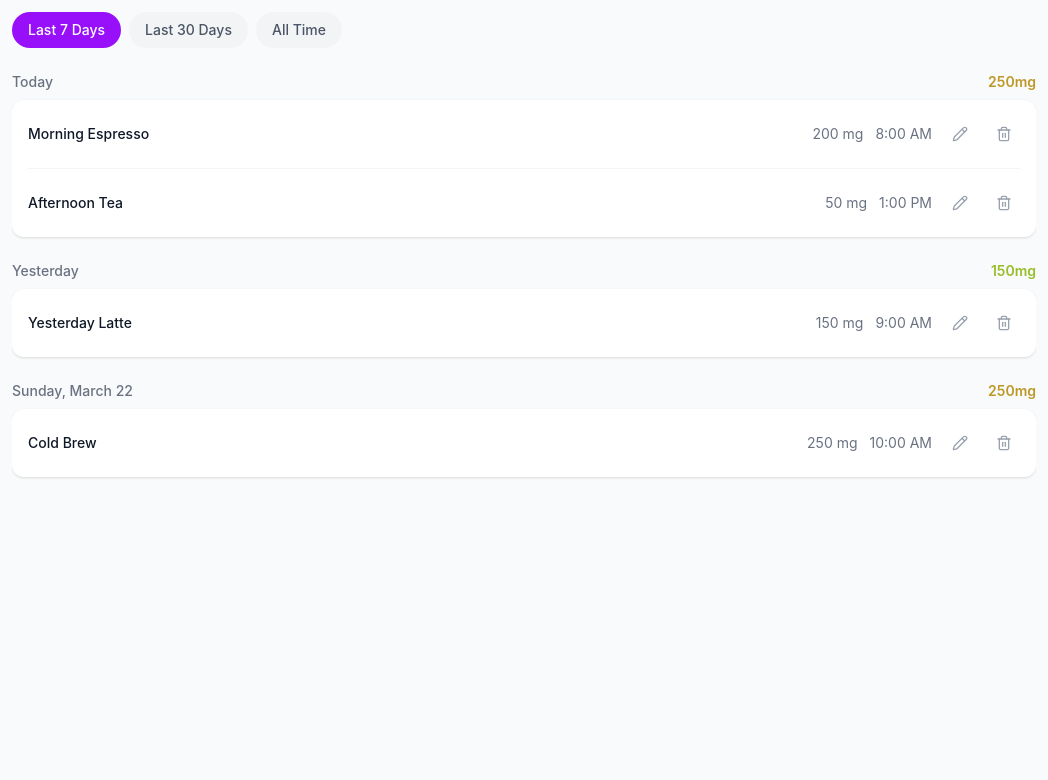
Test: HistoryDrinkList › All Time filter shows all drinks including old ones
The image size is (1048, 780).
Click the button "All Time".
click(299, 30)  # box [256,12,342,48]
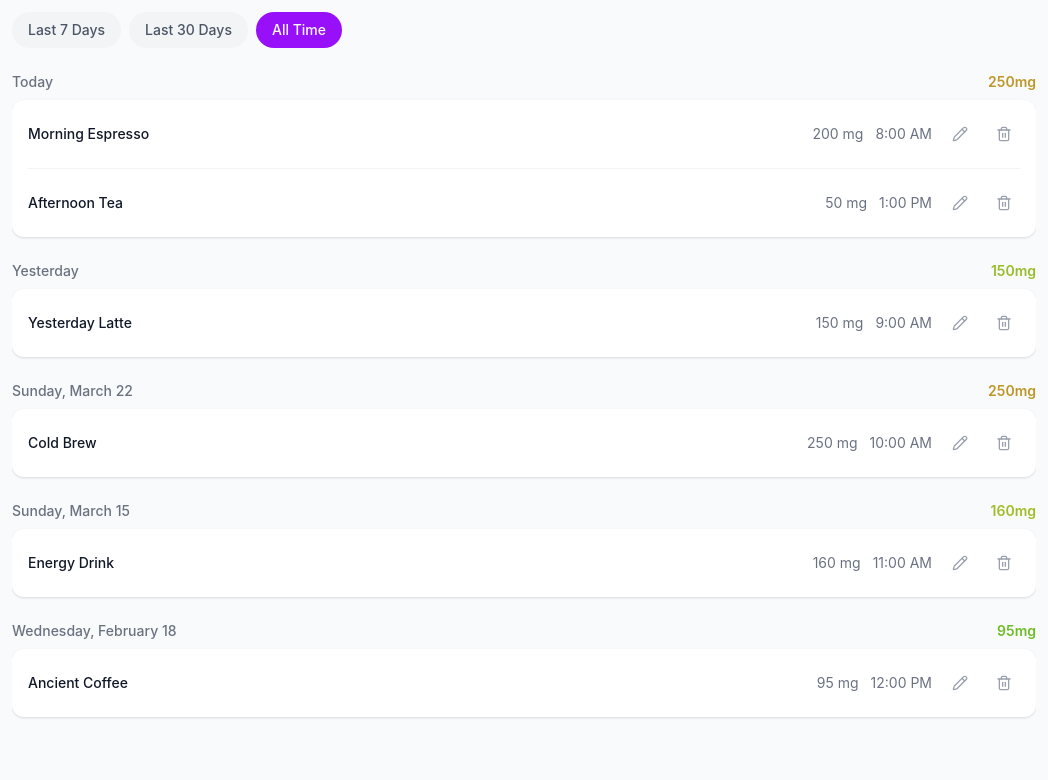
Expected: the text "Morning Espresso" is shown, [28,124,149,144]
Now the text "Ancient Coffee" is shown, box [28,673,128,693]
Now the text "Energy Drink" is shown, box [28,553,114,573]
